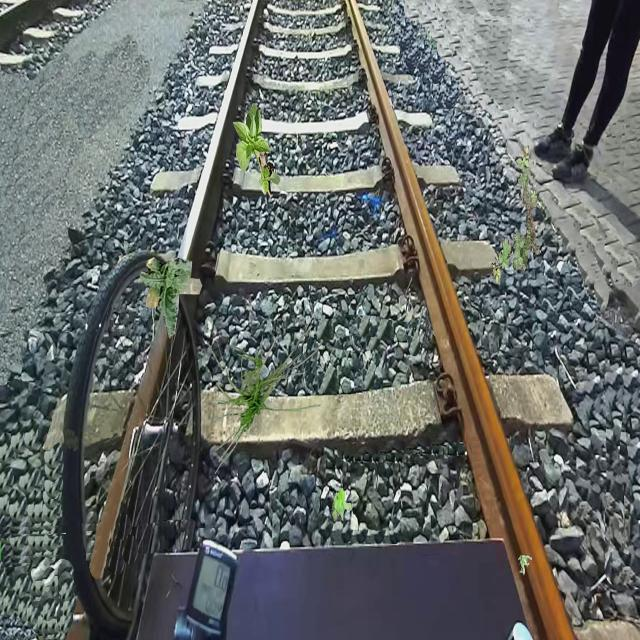Plant: (204, 311, 322, 474), (492, 146, 540, 284), (139, 257, 202, 340), (233, 103, 281, 198), (332, 488, 352, 521), (518, 555, 532, 576)
